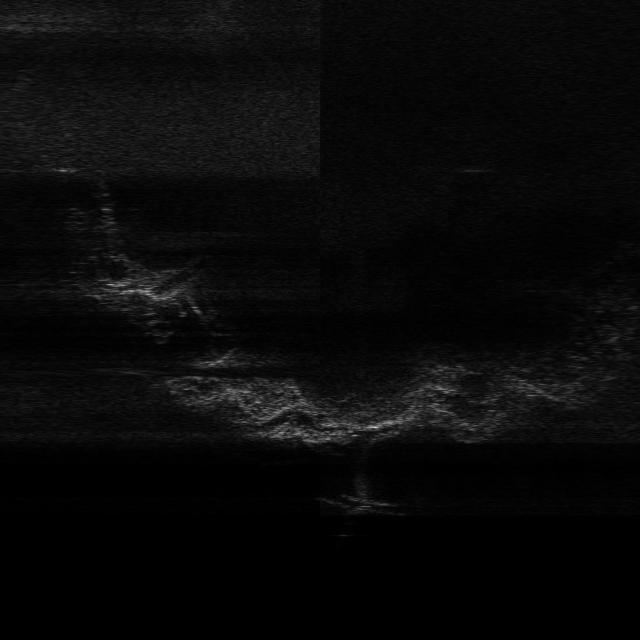plane: (316, 491, 410, 519)
